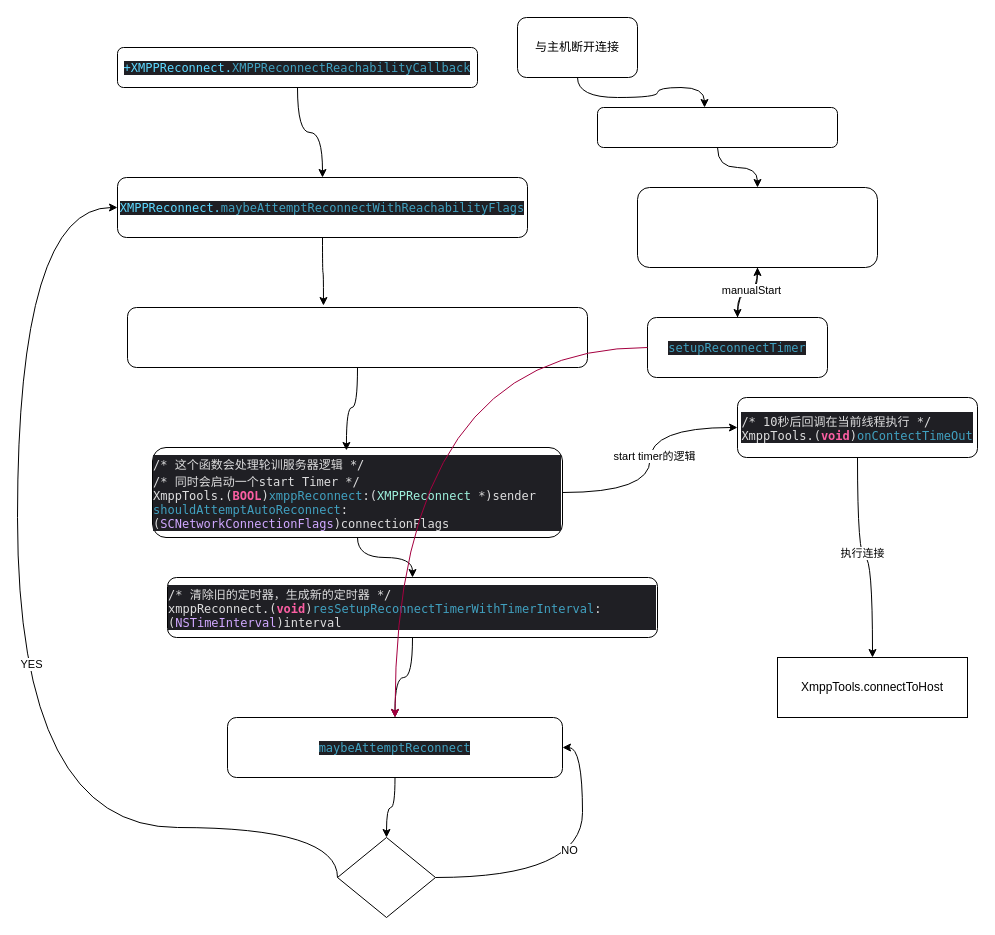
The diagram is 995 pixels wide and 935 high, and some of its shapes have lost their labels. Each missing label, with the centre of its shape:
[ self stopTimer ]; [ self . reconnect manualStart ]; [ self startTimer ];: point (757, 227)
[del xmppReconnect : self shouldAttemptAutoReconnect :reachabilityFlags]: point (357, 337)
XmppTools.manualStartXMPPConnect: point (717, 127)
网络是否可达？: point (386, 877)
